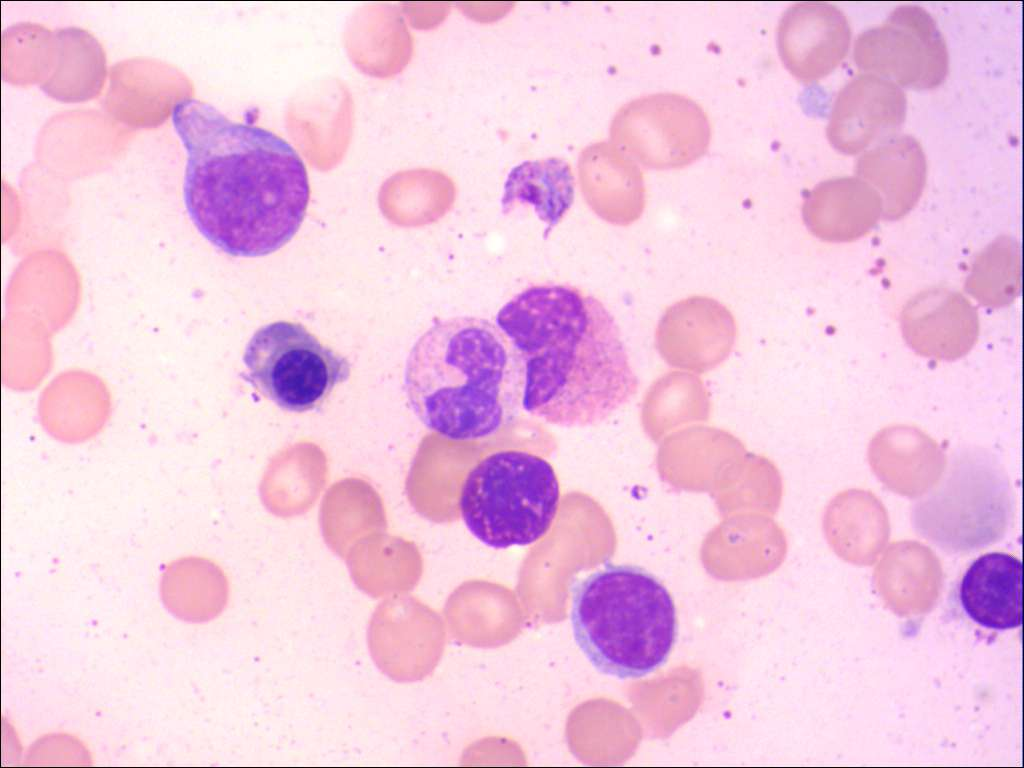24: (235, 317, 356, 417)
32: (567, 561, 681, 681)
5: (402, 315, 527, 446)
51: (169, 95, 315, 263)
x: (493, 278, 642, 434), (458, 448, 563, 554), (950, 547, 1024, 636)
